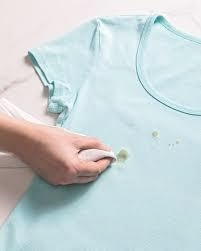oil: (117, 146, 132, 166), (149, 129, 161, 142), (167, 140, 182, 149)
